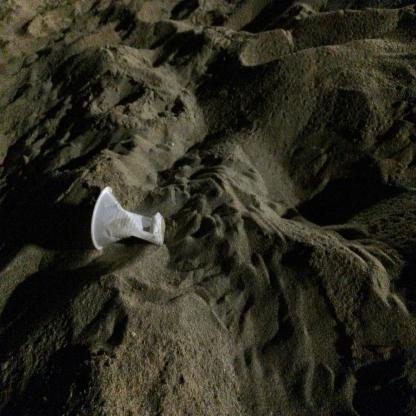plastik: (90, 186, 166, 252)
